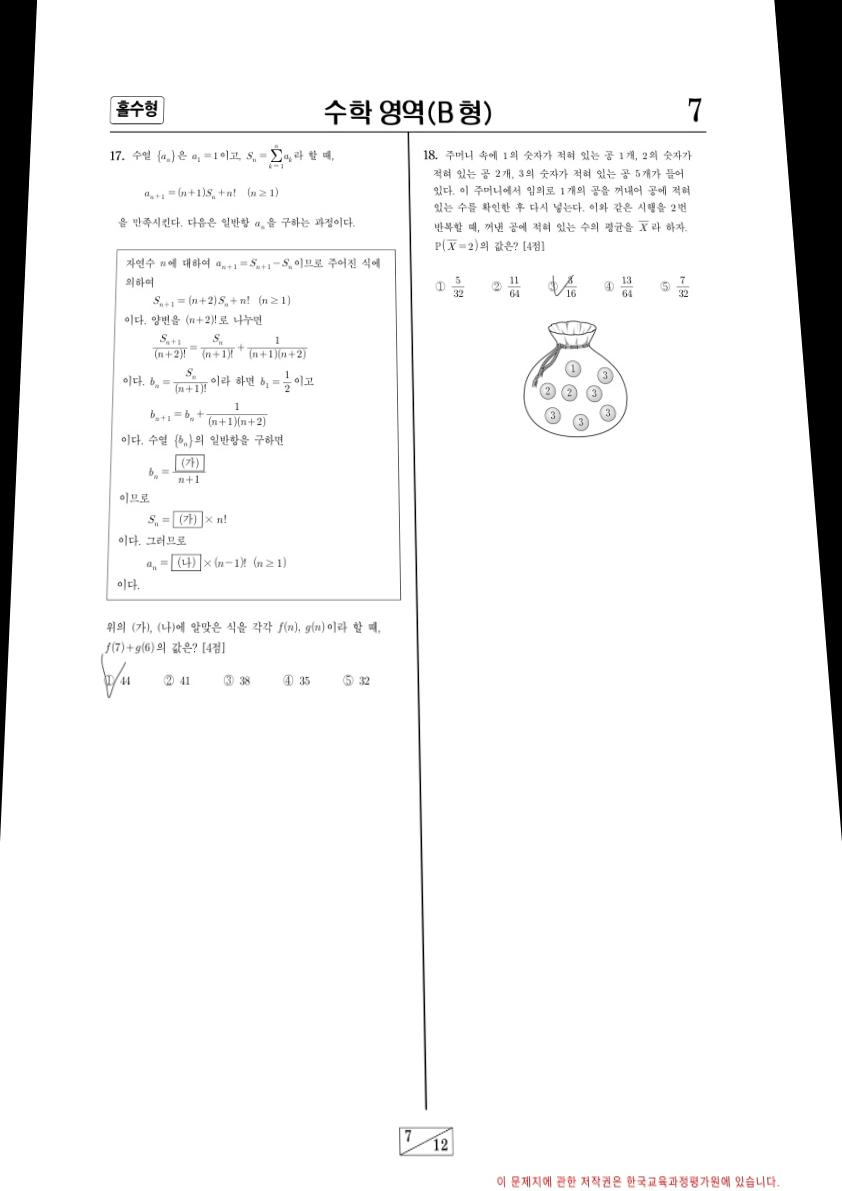question: (90, 138, 410, 705), (414, 138, 706, 451)
